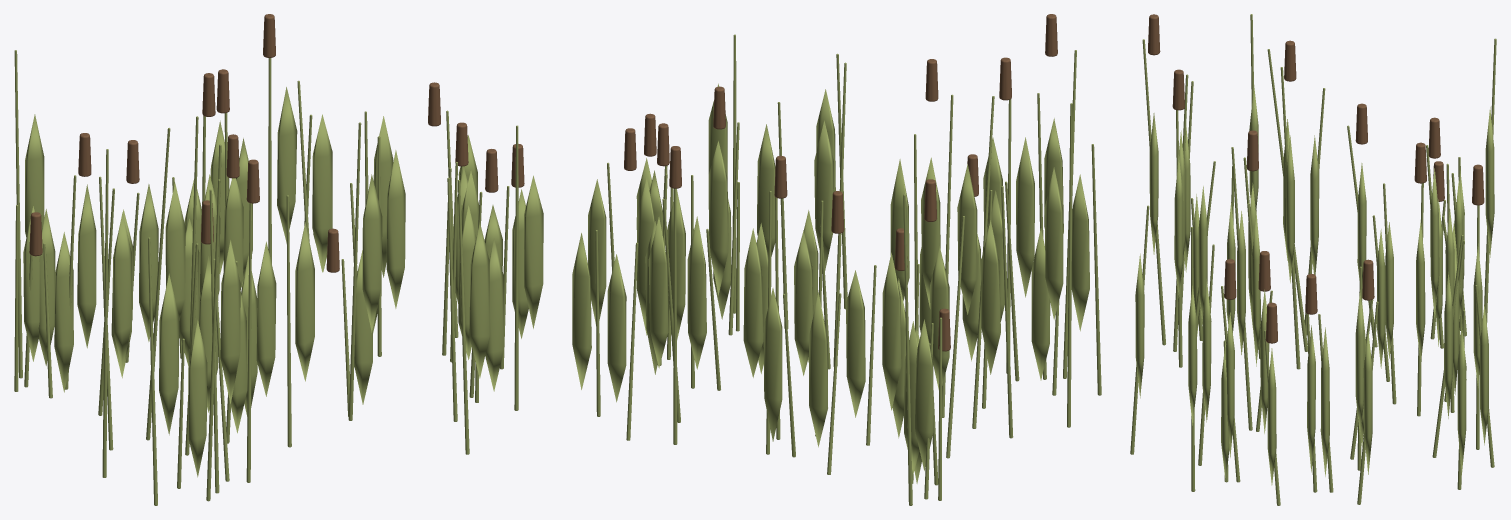
The model's file is Prop_Reed_Cluster_01_Detailed.fbx.
3 renders of one model, left to right at view 1: azimuth 30°, elevation 25°; view 2: azimuth 150°, elevation 25°; view 3: azimuth 270°, elevation 25°, orthographic. The views are drawn at different scales.
Parts seen in each view (by area): view 1: Reed_Leaf_14, Reed_Leaf_07, Reed_Leaf_17, Reed_Leaf_00, Reed_Leaf_31, Reed_Leaf_24, Reed_Leaf_11, Reed_Leaf_22, Reed_Leaf_26, Reed_Leaf_33, Reed_Leaf_30, Reed_Leaf_40 (+44 smaller); view 2: Reed_Leaf_15, Reed_Leaf_13, Reed_Leaf_23, Reed_Leaf_38, Reed_Leaf_08, Reed_Leaf_37, Reed_Leaf_02, Reed_Leaf_39, Reed_Leaf_41, Reed_Leaf_32, Reed_Leaf_29, Reed_Leaf_40 (+52 smaller); view 3: Reed_Leaf_08, Reed_Leaf_13, Reed_Leaf_17, Reed_Leaf_33, Reed_Leaf_11, Reed_Leaf_24, Reed_Leaf_36, Reed_Leaf_03, Reed_Leaf_04, Reed_Leaf_20, Reed_Leaf_00, Reed_Leaf_37 (+55 smaller).
Boxes of the visible parts, left/top/right/bottom form: Reed_Leaf_14: left=312, top=114, right=332, bottom=272; Reed_Leaf_07: left=159, top=273, right=179, bottom=435; Reed_Leaf_17: left=469, top=222, right=489, bottom=378; Reed_Leaf_00: left=220, top=241, right=240, bottom=396; Reed_Leaf_31: left=295, top=222, right=314, bottom=381; Reed_Leaf_24: left=77, top=184, right=96, bottom=348; Reed_Leaf_11: left=386, top=150, right=405, bottom=308; Reed_Leaf_22: left=362, top=174, right=382, bottom=332; Reed_Leaf_26: left=524, top=175, right=543, bottom=328; Reed_Leaf_33: left=256, top=241, right=276, bottom=396; Reed_Leaf_30: left=54, top=232, right=73, bottom=392; Reed_Leaf_40: left=113, top=212, right=131, bottom=369; Reed_Leaf_15: left=708, top=141, right=728, bottom=295; Reed_Leaf_13: left=572, top=233, right=591, bottom=389; Reed_Leaf_23: left=1016, top=137, right=1034, bottom=297; Reed_Leaf_38: left=687, top=216, right=706, bottom=369; Reed_Leaf_08: left=882, top=252, right=901, bottom=410; Reed_Leaf_37: left=981, top=220, right=1000, bottom=374; Reed_Leaf_02: left=846, top=270, right=865, bottom=417; Reed_Leaf_39: left=648, top=217, right=668, bottom=368; Reed_Leaf_41: left=763, top=288, right=782, bottom=441; Reed_Leaf_32: left=607, top=254, right=626, bottom=402; Reed_Leaf_29: left=809, top=292, right=827, bottom=447; Reed_Leaf_40: left=1044, top=167, right=1063, bottom=319; Reed_Leaf_08: left=1485, top=107, right=1494, bottom=257; Reed_Leaf_13: left=1457, top=324, right=1466, bottom=474; Reed_Leaf_17: left=1135, top=253, right=1144, bottom=398; Reed_Leaf_33: left=1174, top=155, right=1183, bottom=297; Reed_Leaf_11: left=1355, top=290, right=1364, bottom=437; Reed_Leaf_24: left=1430, top=168, right=1439, bottom=318; Reed_Leaf_36: left=1285, top=135, right=1294, bottom=283; Reed_Leaf_03: left=1416, top=220, right=1425, bottom=364; Reed_Leaf_04: left=1320, top=327, right=1329, bottom=476; Reed_Leaf_20: left=1202, top=279, right=1211, bottom=422; Reed_Leaf_00: left=1149, top=113, right=1158, bottom=254; Reed_Leaf_37: left=1310, top=135, right=1319, bottom=274.
Size of the model in its own units: 317 by 253 by 248.
